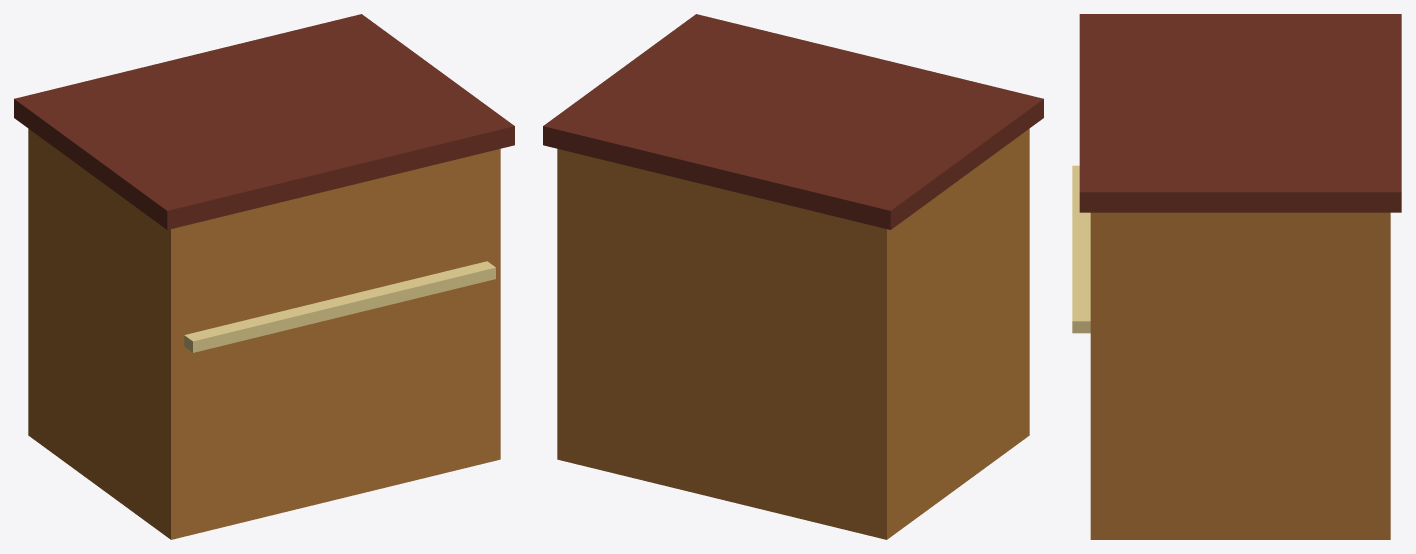
File: thrift_shop.dae
3 renders of one model, left to right at view 1: azimuth 30°, elevation 25°; view 2: azimuth 150°, elevation 25°; view 3: azimuth 270°, elevation 25°, orthographic. The views are drawn at different scales.
Visible parts, largest first — view 1: main, roof, canopy; view 2: main, roof; view 3: main, roof, canopy.
Boxes of the visible parts, x1=… form: main: x1=28, y1=128, x2=500, y2=539; roof: x1=14, y1=14, x2=514, y2=229; canopy: x1=184, y1=261, x2=495, y2=352; main: x1=557, y1=128, x2=1029, y2=539; roof: x1=543, y1=14, x2=1043, y2=229; main: x1=1090, y1=212, x2=1390, y2=539; roof: x1=1079, y1=14, x2=1401, y2=212; canopy: x1=1072, y1=165, x2=1090, y2=333.
Size of the model in its own units: 7.6 by 5.93 by 7.
